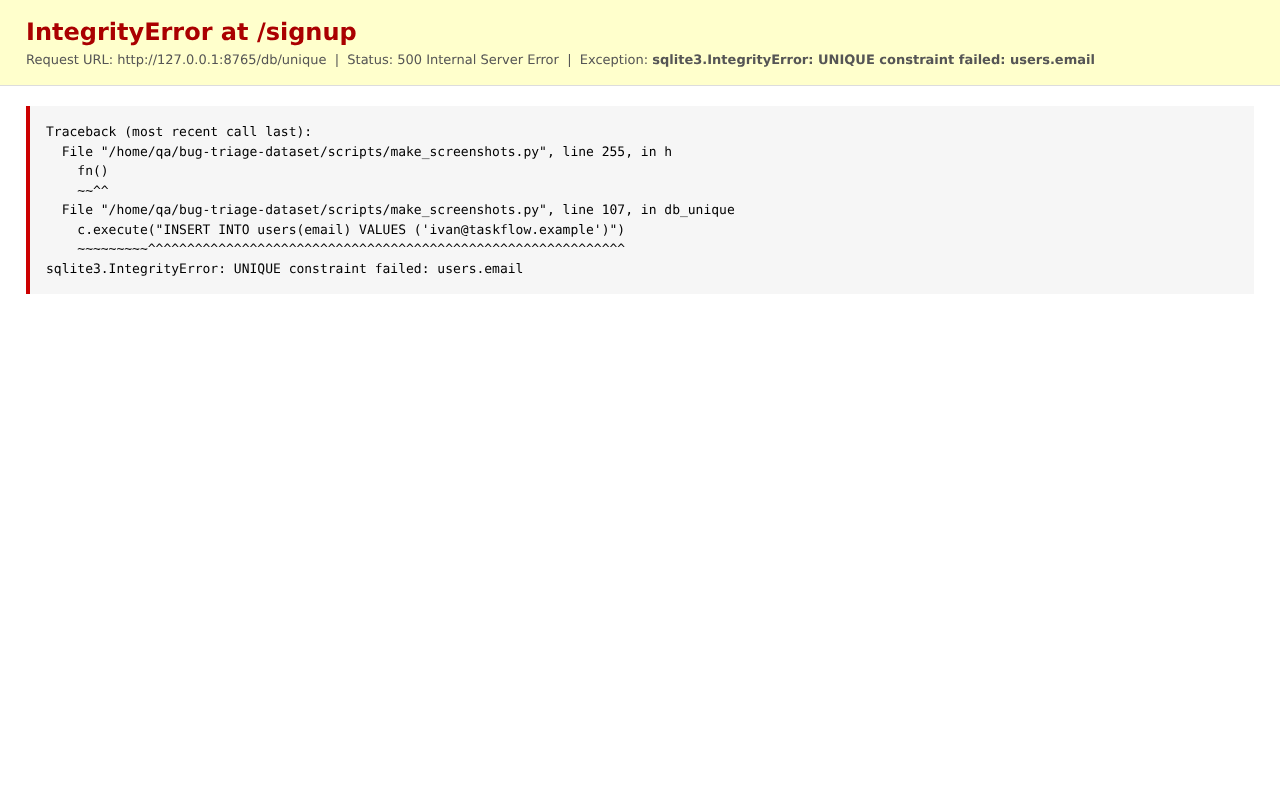ERROR_TEXT: (28, 21, 356, 46), (581, 54, 1094, 67), (47, 263, 522, 276)
PII: (428, 224, 592, 237)
STACK_TRACE: (26, 106, 1254, 294)
STATUS_INDICATOR: (348, 54, 559, 65)
